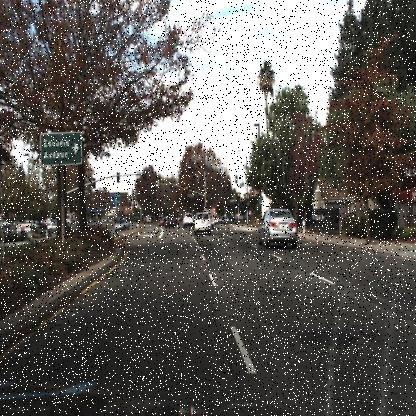car: (256, 204, 297, 251), (192, 210, 213, 239), (181, 209, 197, 232), (112, 218, 131, 231), (164, 212, 176, 230)
trafficLight: (204, 196, 210, 210)
trafficLight-Red: (168, 178, 174, 194), (234, 190, 240, 206), (185, 182, 190, 194)
trafficLight-RedLeft: (151, 176, 156, 190)
